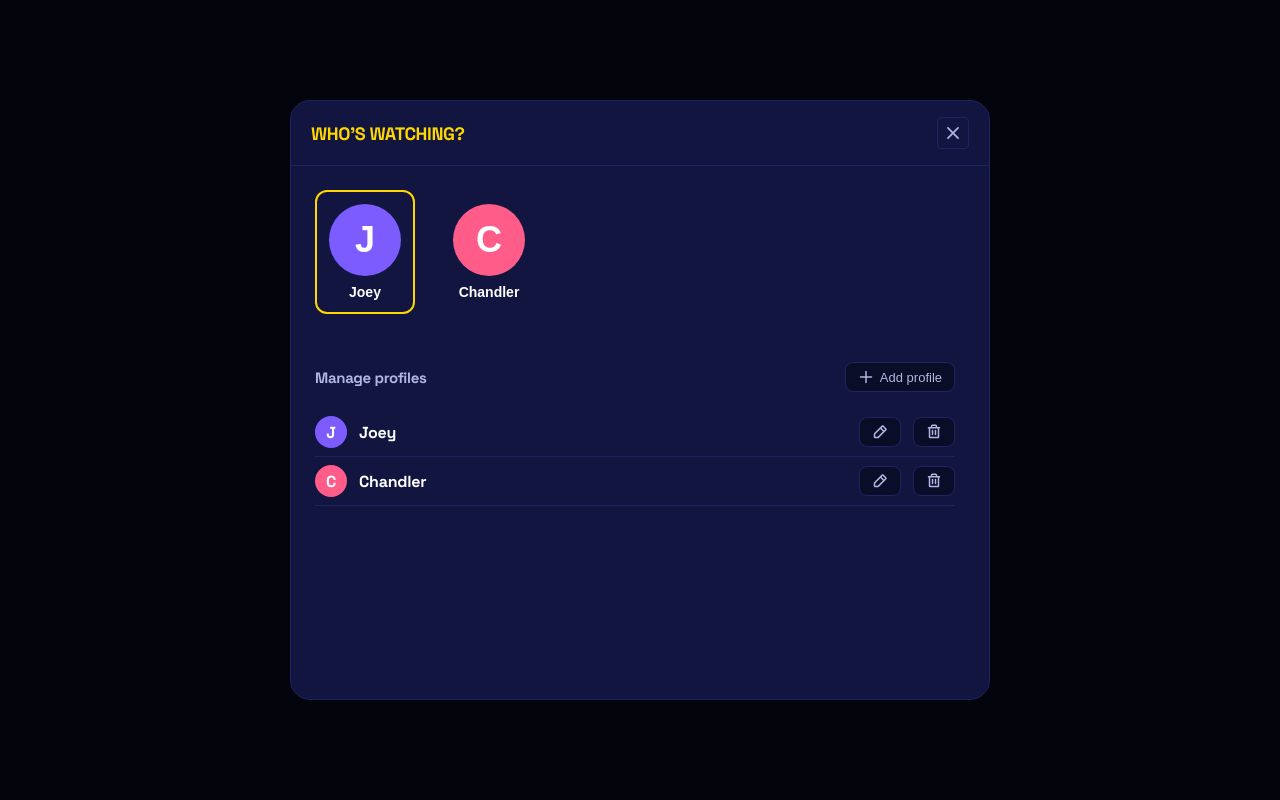
ProfilePage › shows a visible error and does not navigate when switching profiles fails
This screenshot has width=1280, height=800.
Click the button "C Chandler": coordinates (489, 252) [439,190,539,314]
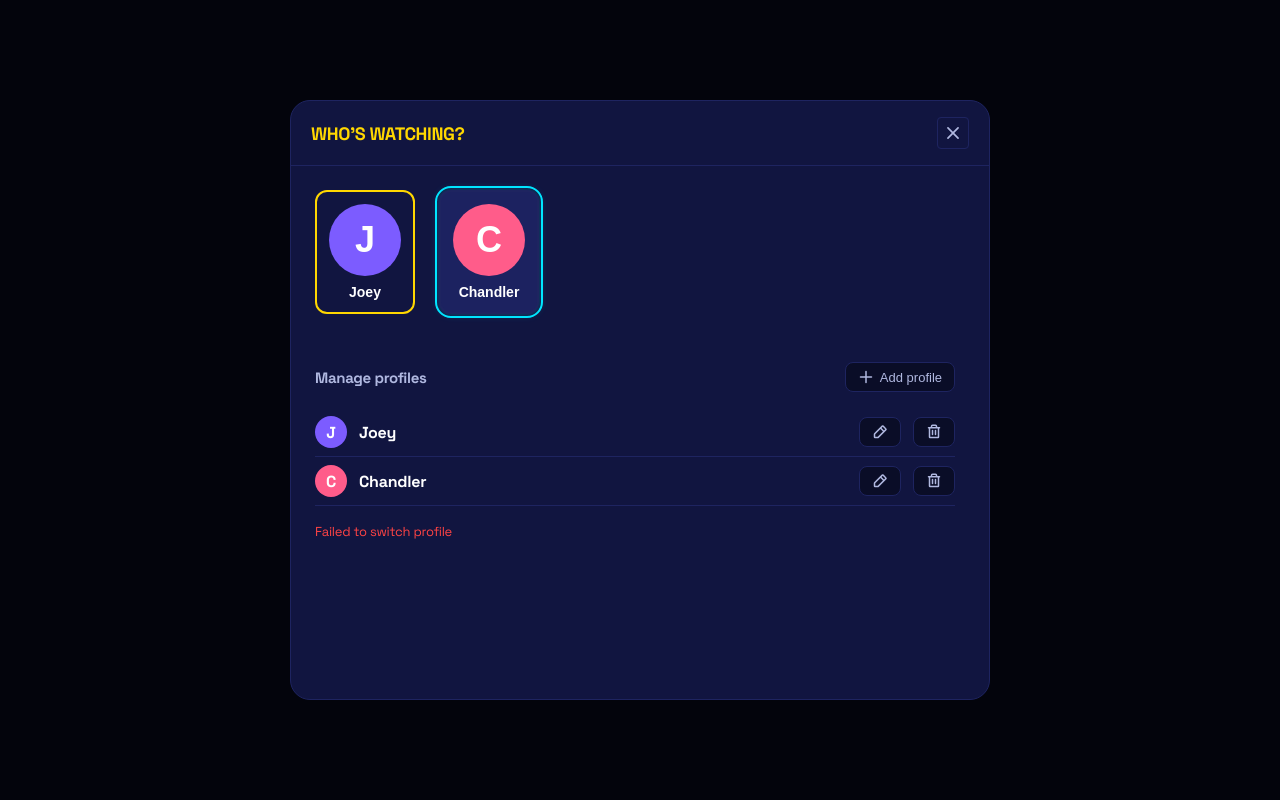
Now the text "Failed to switch profile" is shown, box [315,523,452,540]
